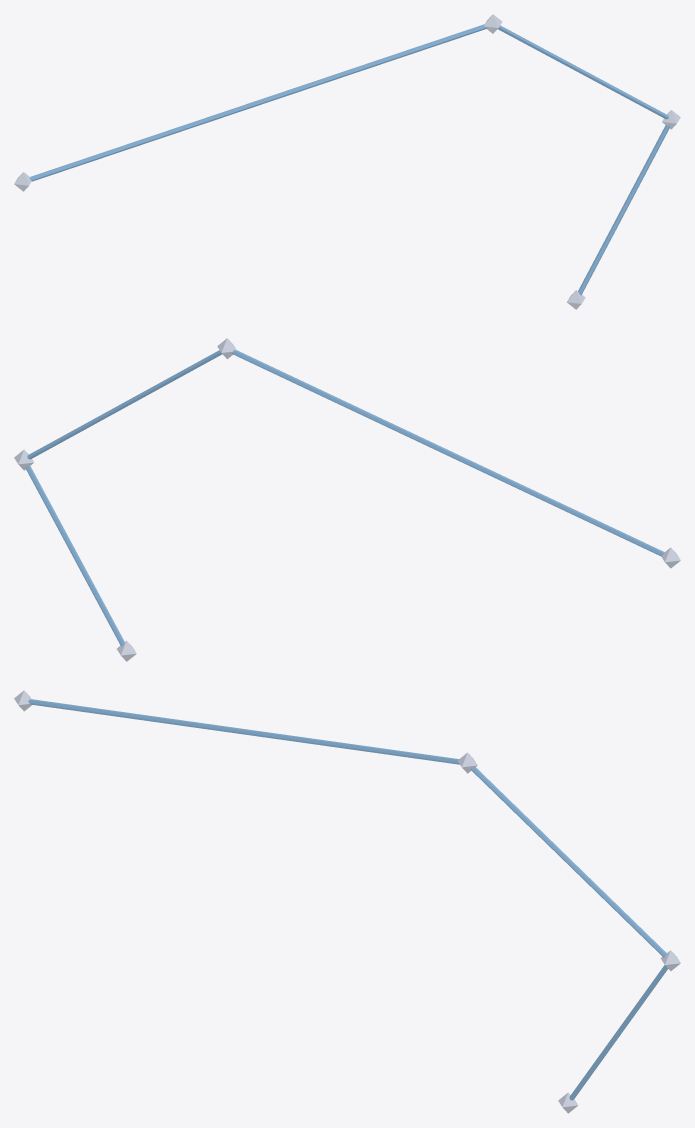
Rendered from constellation-scl.glb.
3 views of the same model, one above another, from view 1: azimuth 30°, elevation 25°; view 2: azimuth 150°, elevation 25°; view 3: azimuth 330°, elevation 25° (orthographic). The views are drawn at different scales.
Bounding box in the file's own units: 2.3 × 1.09 × 0.2309.
